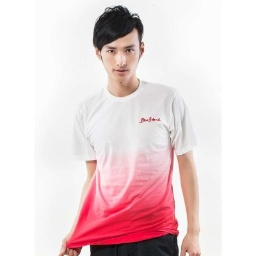face: (93, 6, 146, 84)
